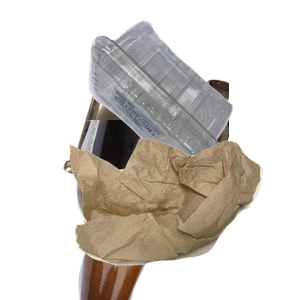glass: (60, 120, 300, 300)
metal: (60, 47, 300, 227)
plastic: (86, 18, 300, 171)
trash: (67, 136, 300, 300)
